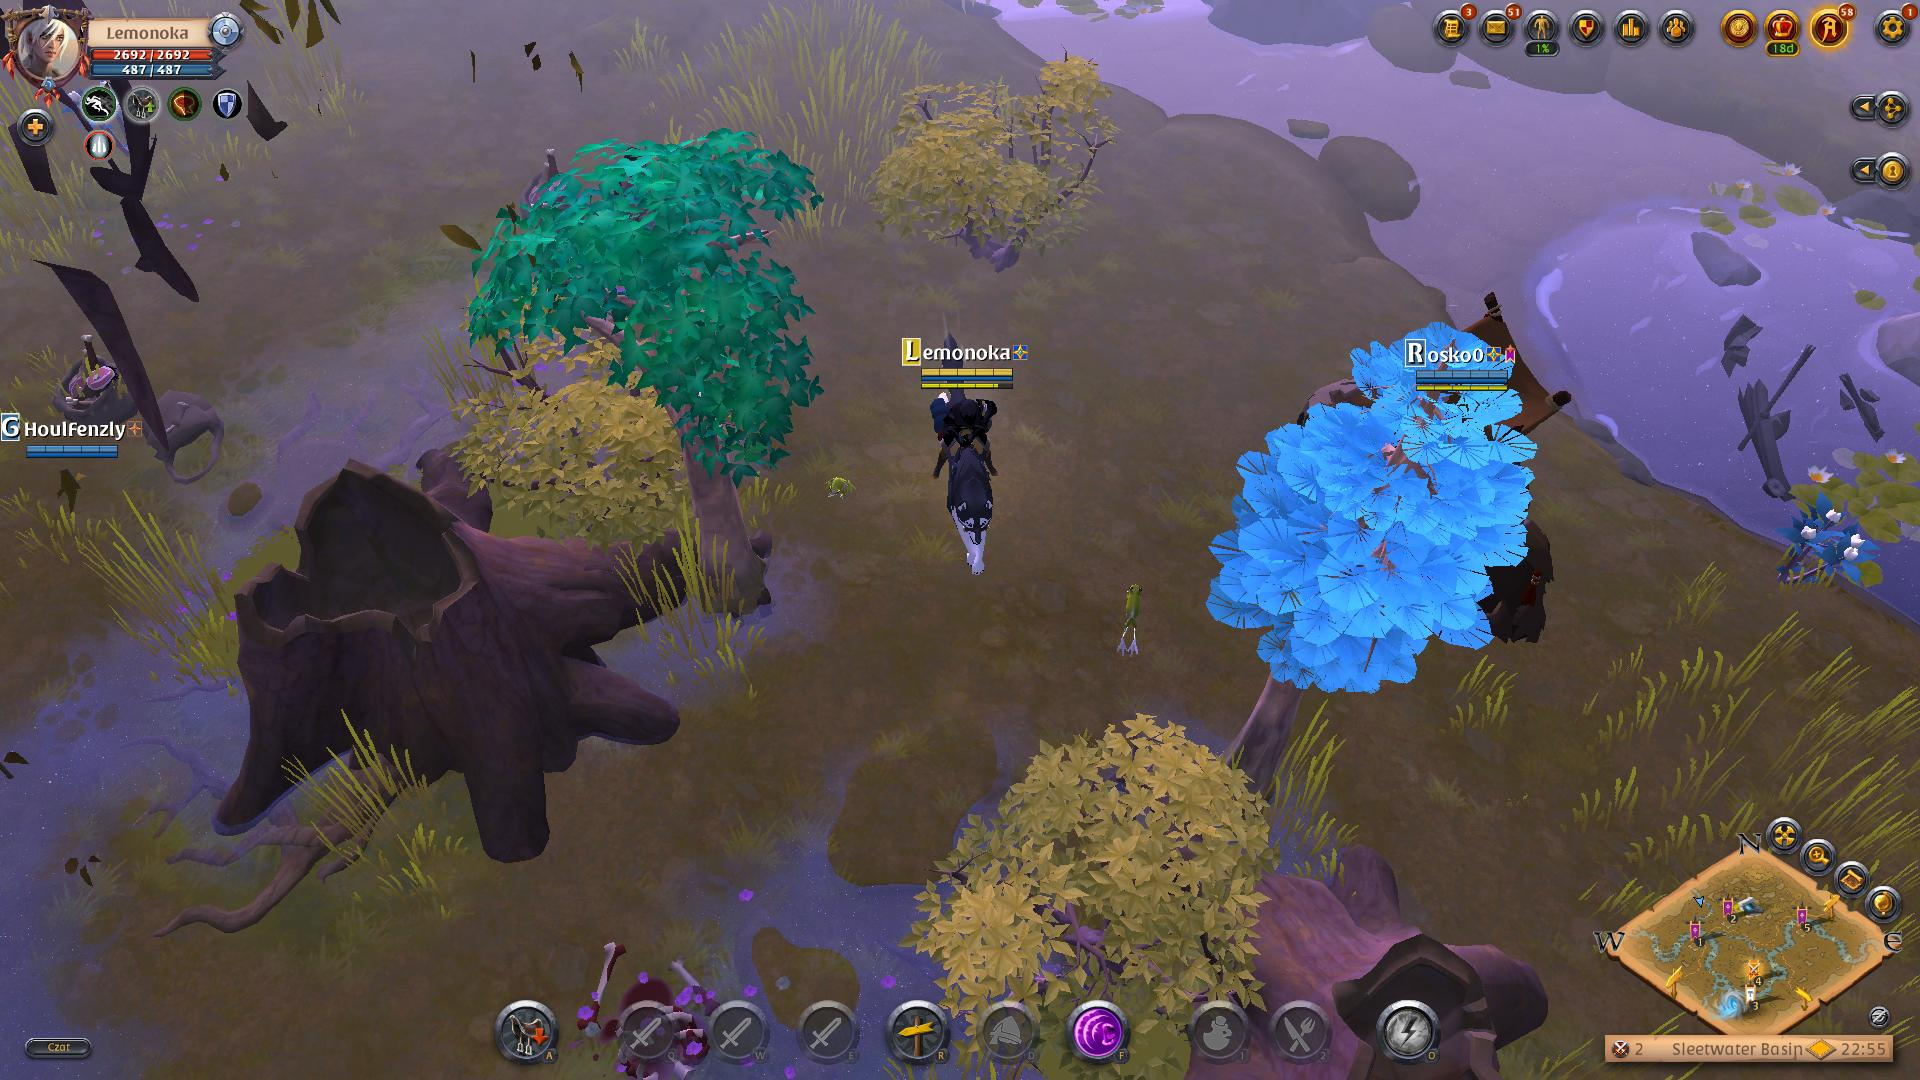fiber tier 4: (1782, 497, 1874, 608)
wood tier 3: (468, 127, 825, 479)
wood tier 4: (1217, 323, 1540, 702)
